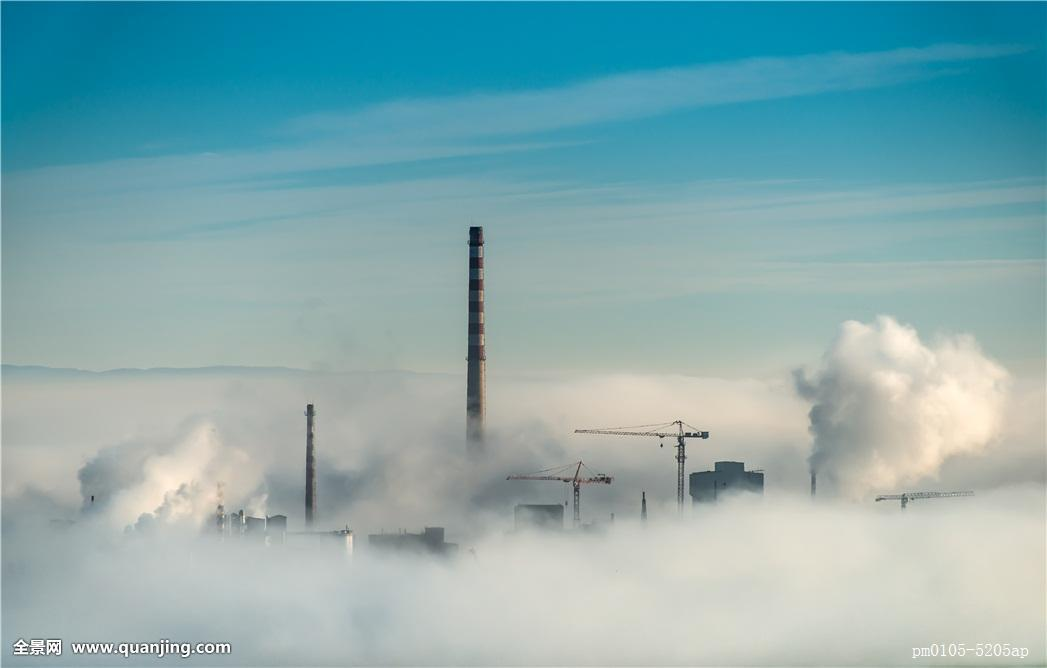dust: (793, 307, 966, 496)
